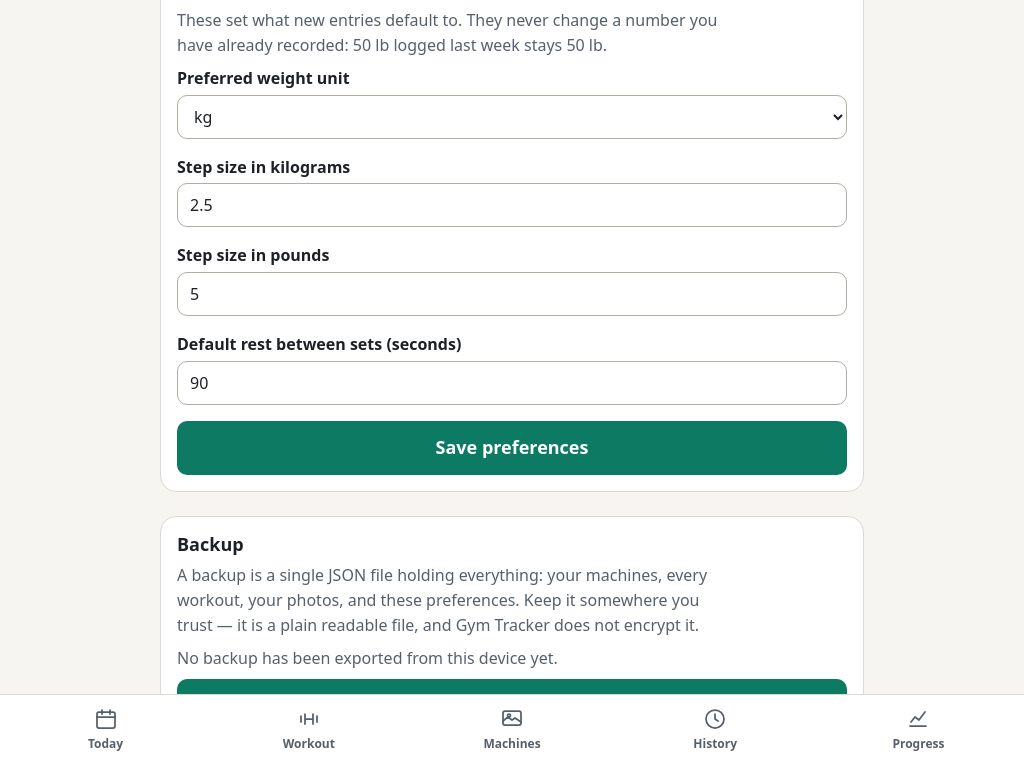
Test: rejecting an unusable preference › accepts zero rest, which is a real choice
(page scrolled)
Expected: the dropdown labelled "Preferred weight unit" is shown, top-left (177, 95), bottom-right (847, 139)
Replace the text in the field labelled "Default rest between sets (seconds)" with "0": (512,383) top-left (177, 361), bottom-right (847, 405)
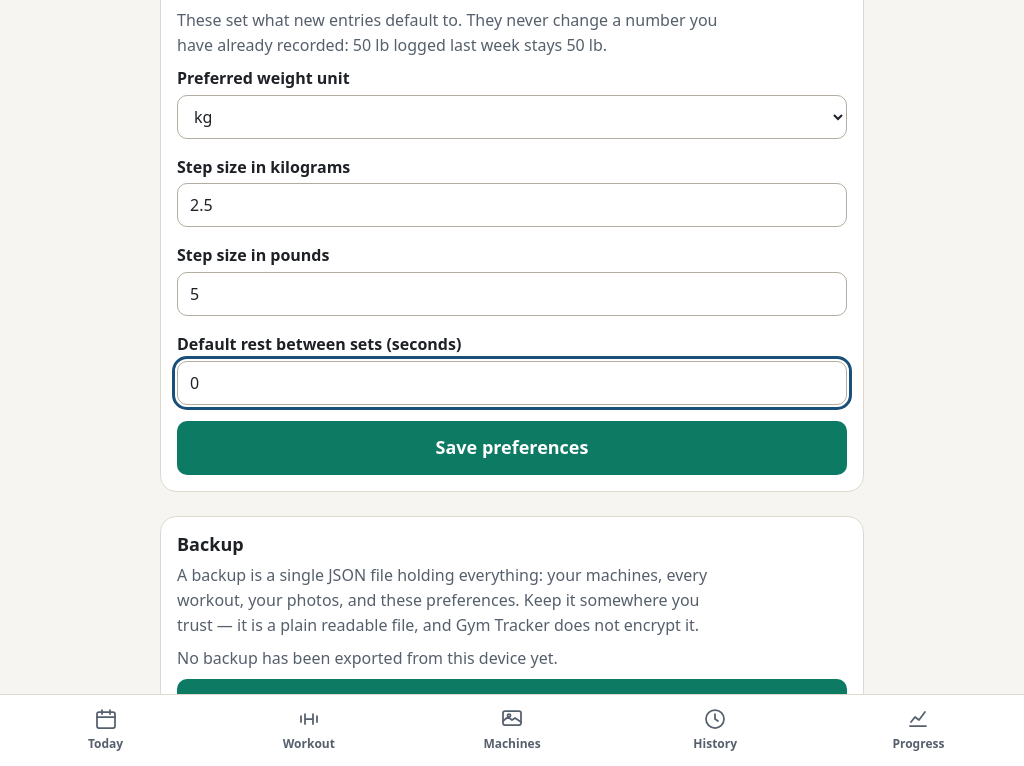
Click the button "Save preferences": (512,448) top-left (177, 421), bottom-right (847, 475)
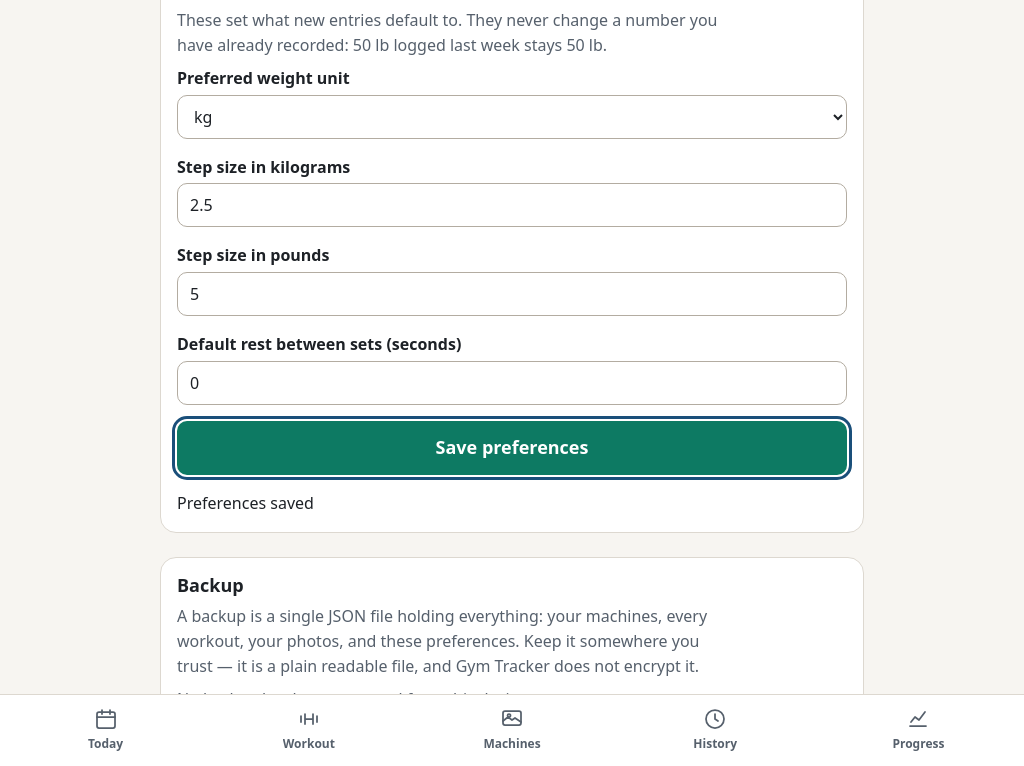
Now the text "Preferences saved" is shown, box top-left (177, 492), bottom-right (314, 514)
